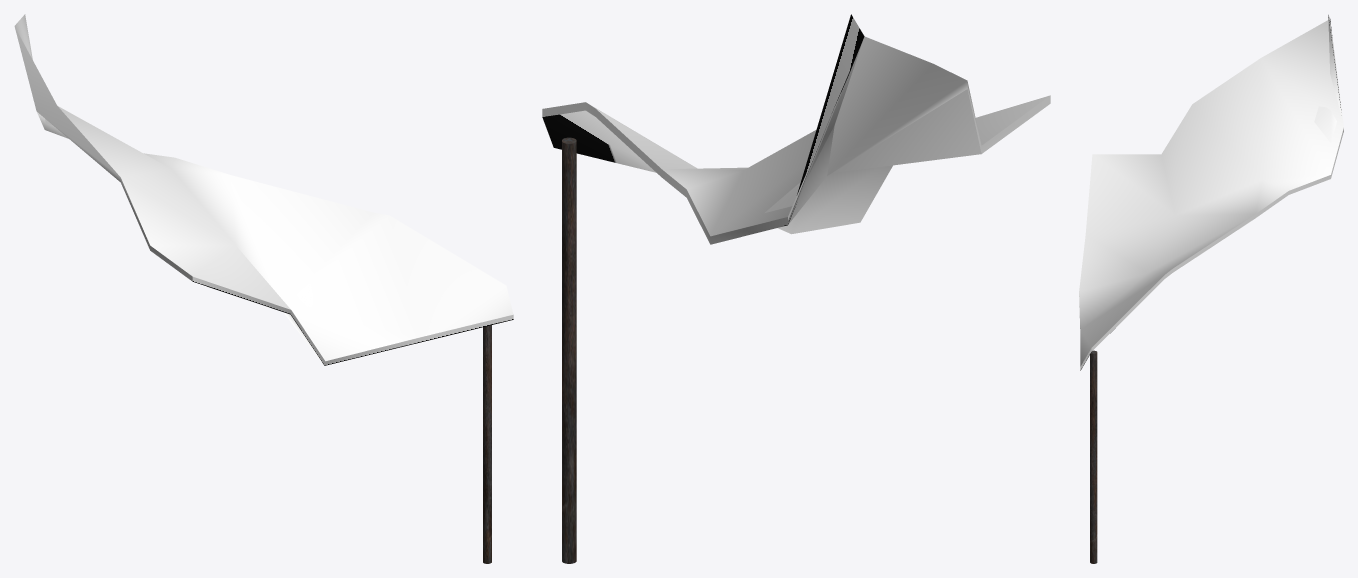
File: TelaTecho.obj
3 views of the same model, side by side, from view 1: azimuth 30°, elevation 25°; view 2: azimuth 150°, elevation 25°; view 3: azimuth 270°, elevation 25° (orthographic). The views are drawn at different scales.
Parts seen in each view (by area): view 1: TelaTecho; view 2: TelaTecho; view 3: TelaTecho.
Part boxes in pixels (<box>): TelaTecho: <box>14,14,513,563</box>; TelaTecho: <box>542,14,1050,563</box>; TelaTecho: <box>1079,15,1343,563</box>.
Bounding box in the file's own units: 20.78 × 29.92 × 17.01.
Materials: 2 (2 with a texture image).
